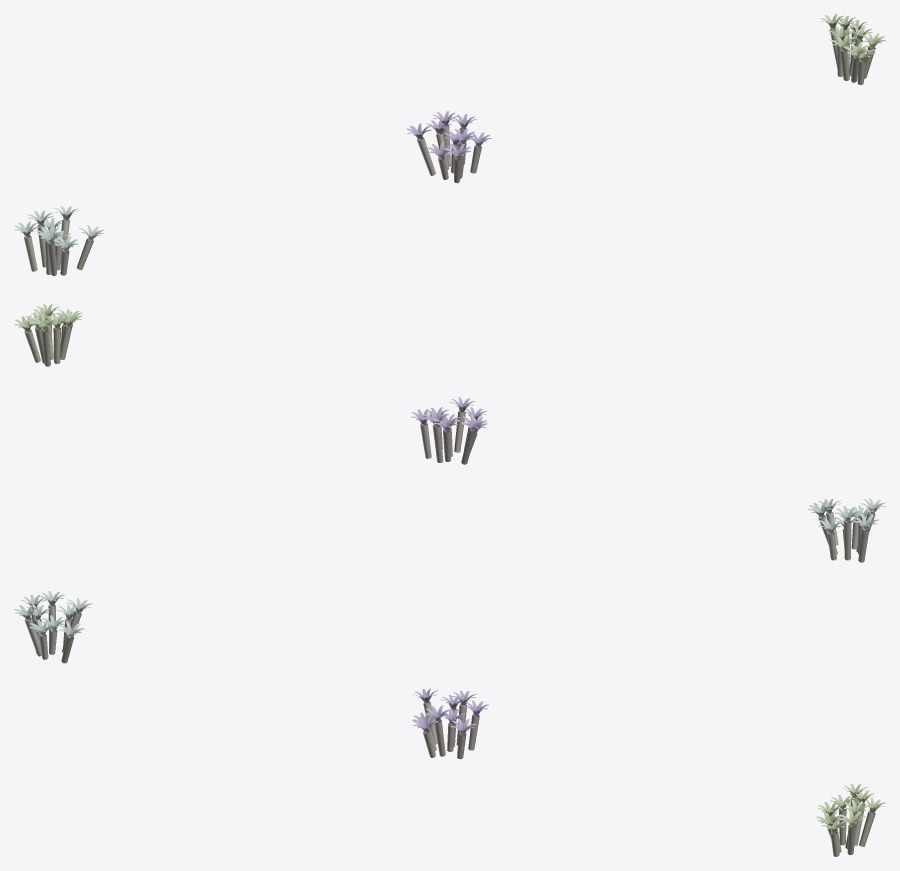
3 renders of one model, top to bottom at view 1: azimuth 30°, elevation 25°; view 2: azimuth 150°, elevation 25°; view 3: azimuth 330°, elevation 25°, orthographic.
Visible parts, largest first — view 1: xenia-1, xenia-0, xenia-2; view 2: xenia-1, xenia-0, xenia-2; view 3: xenia-1, xenia-0, xenia-2.
Boxes of the visible parts, x1,y1,x2,y2 form: xenia-1: (406,111,491,183); xenia-0: (14,206,104,275); xenia-2: (820,14,885,84); xenia-1: (411,397,487,464); xenia-0: (807,498,885,562); xenia-2: (14,304,82,366); xenia-1: (412,688,488,759); xenia-0: (14,591,92,663); xenia-2: (816,784,885,856).
Size of the model in its own units: 1.29 by 0.0735 by 0.1045.
